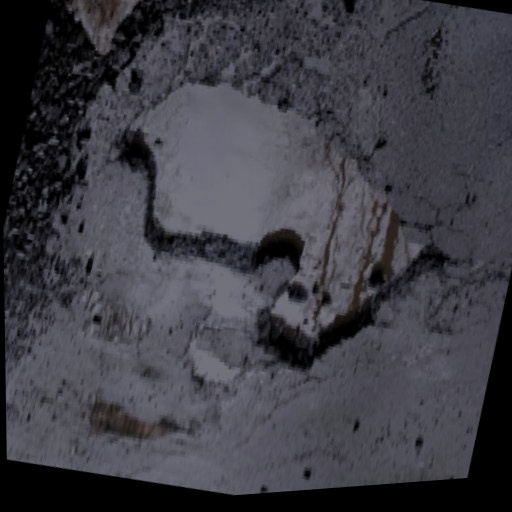pothole: (74, 43, 481, 424), (85, 392, 191, 464), (177, 332, 247, 404)
